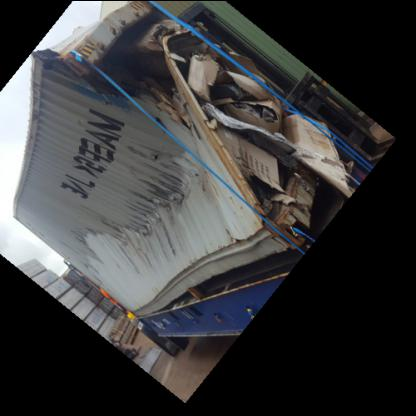Damage: (16, 7, 345, 270)
